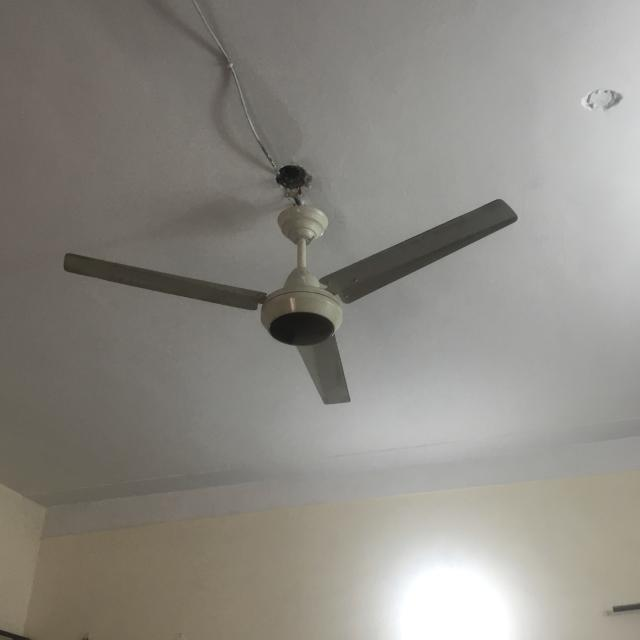off: (53, 190, 530, 414)
